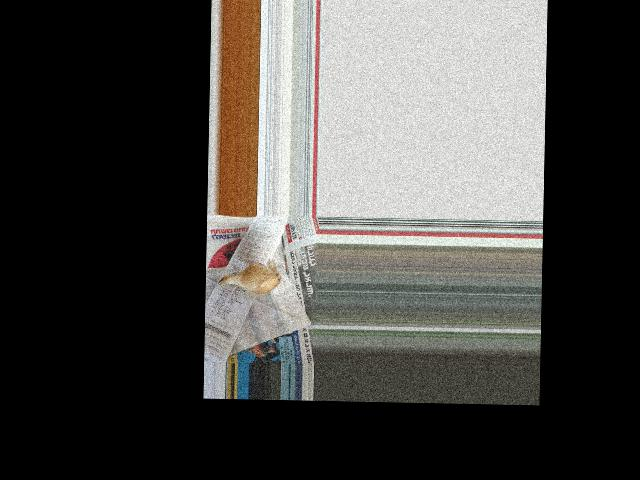onion: (234, 266, 275, 294)
